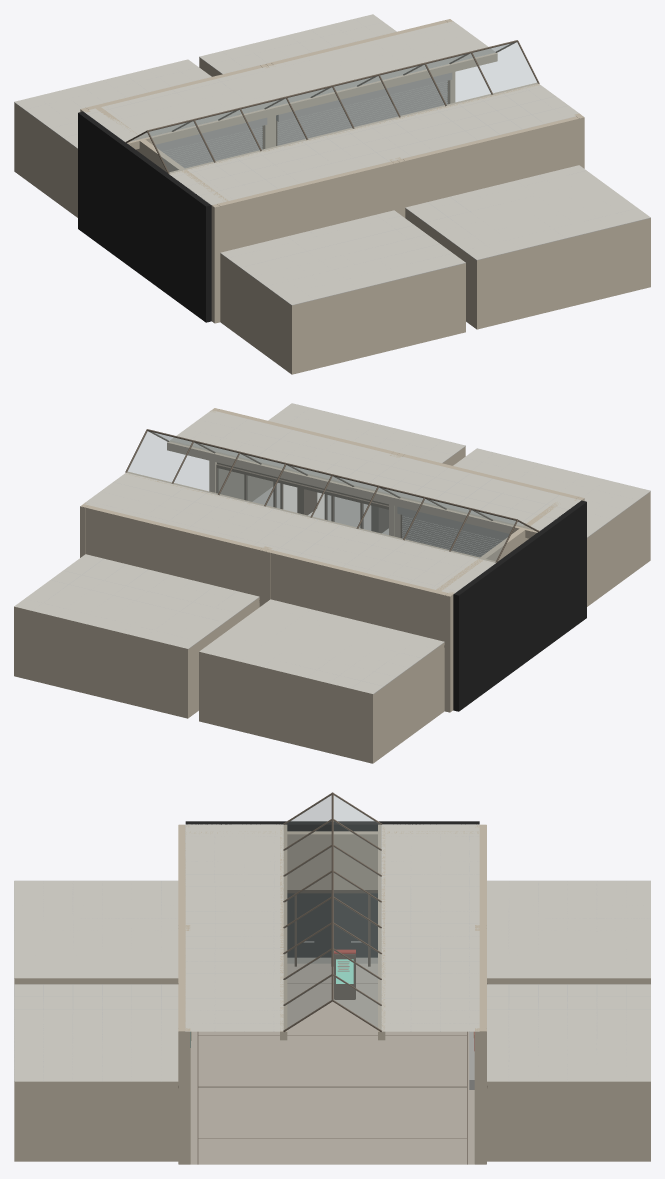
File: entrance.glb
3 renders of one model, top to bottom at view 1: azimuth 30°, elevation 25°; view 2: azimuth 150°, elevation 25°; view 3: azimuth 270°, elevation 25°, orthographic. The views are drawn at different scales.
Parts seen in each view (by area): view 1: entrance; view 2: entrance; view 3: entrance.
Boxes of the visible parts, x1,y1,x2,y2 form: entrance: (14, 14, 650, 374); entrance: (14, 403, 650, 763); entrance: (14, 792, 650, 1164).
Size of what is drawn, in the model's own units: 20.33 by 7.45 by 26.01.
